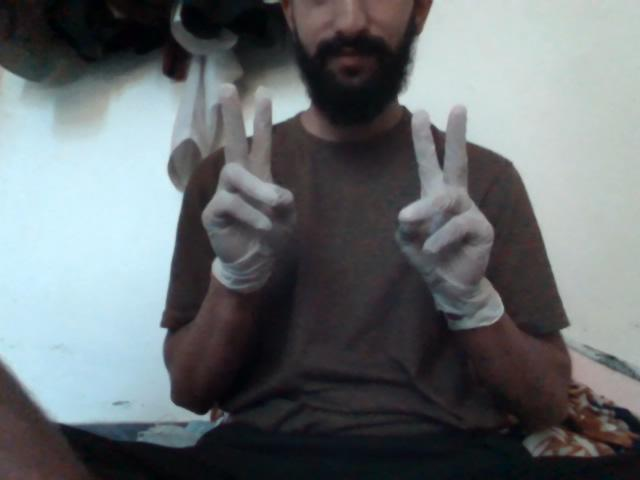gloves: (357, 87, 515, 341), (204, 77, 324, 302)
